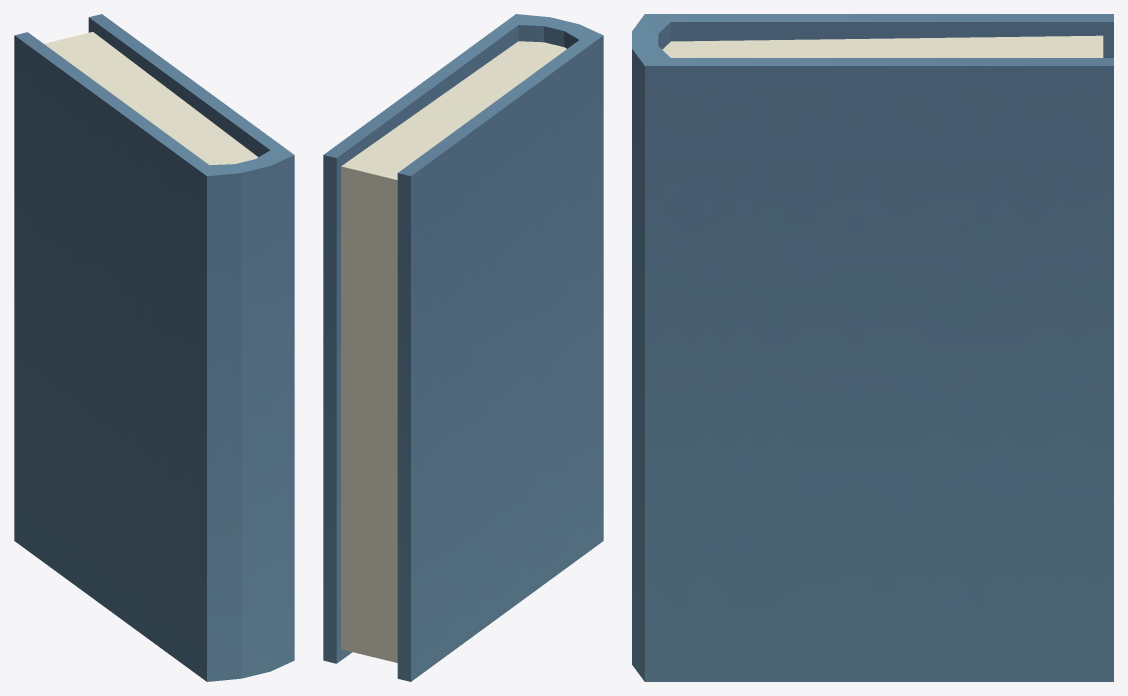
The model's file is book_1.glb.
The picture shows the model from 3 angles, left to right: view 1: azimuth 30°, elevation 25°; view 2: azimuth 150°, elevation 25°; view 3: azimuth 270°, elevation 25°; orthographic projection. The views are drawn at different scales.
Parts seen in each view (by area): view 1: book_1; view 2: book_1; view 3: book_1.
Boxes of the visible parts, bbox=[...] form: book_1: bbox=[14, 14, 294, 681]; book_1: bbox=[323, 14, 603, 681]; book_1: bbox=[632, 14, 1113, 681].
Bounding box in the file's own units: 0.0375 × 0.2073 × 0.147.
1 material, 1 textured.
